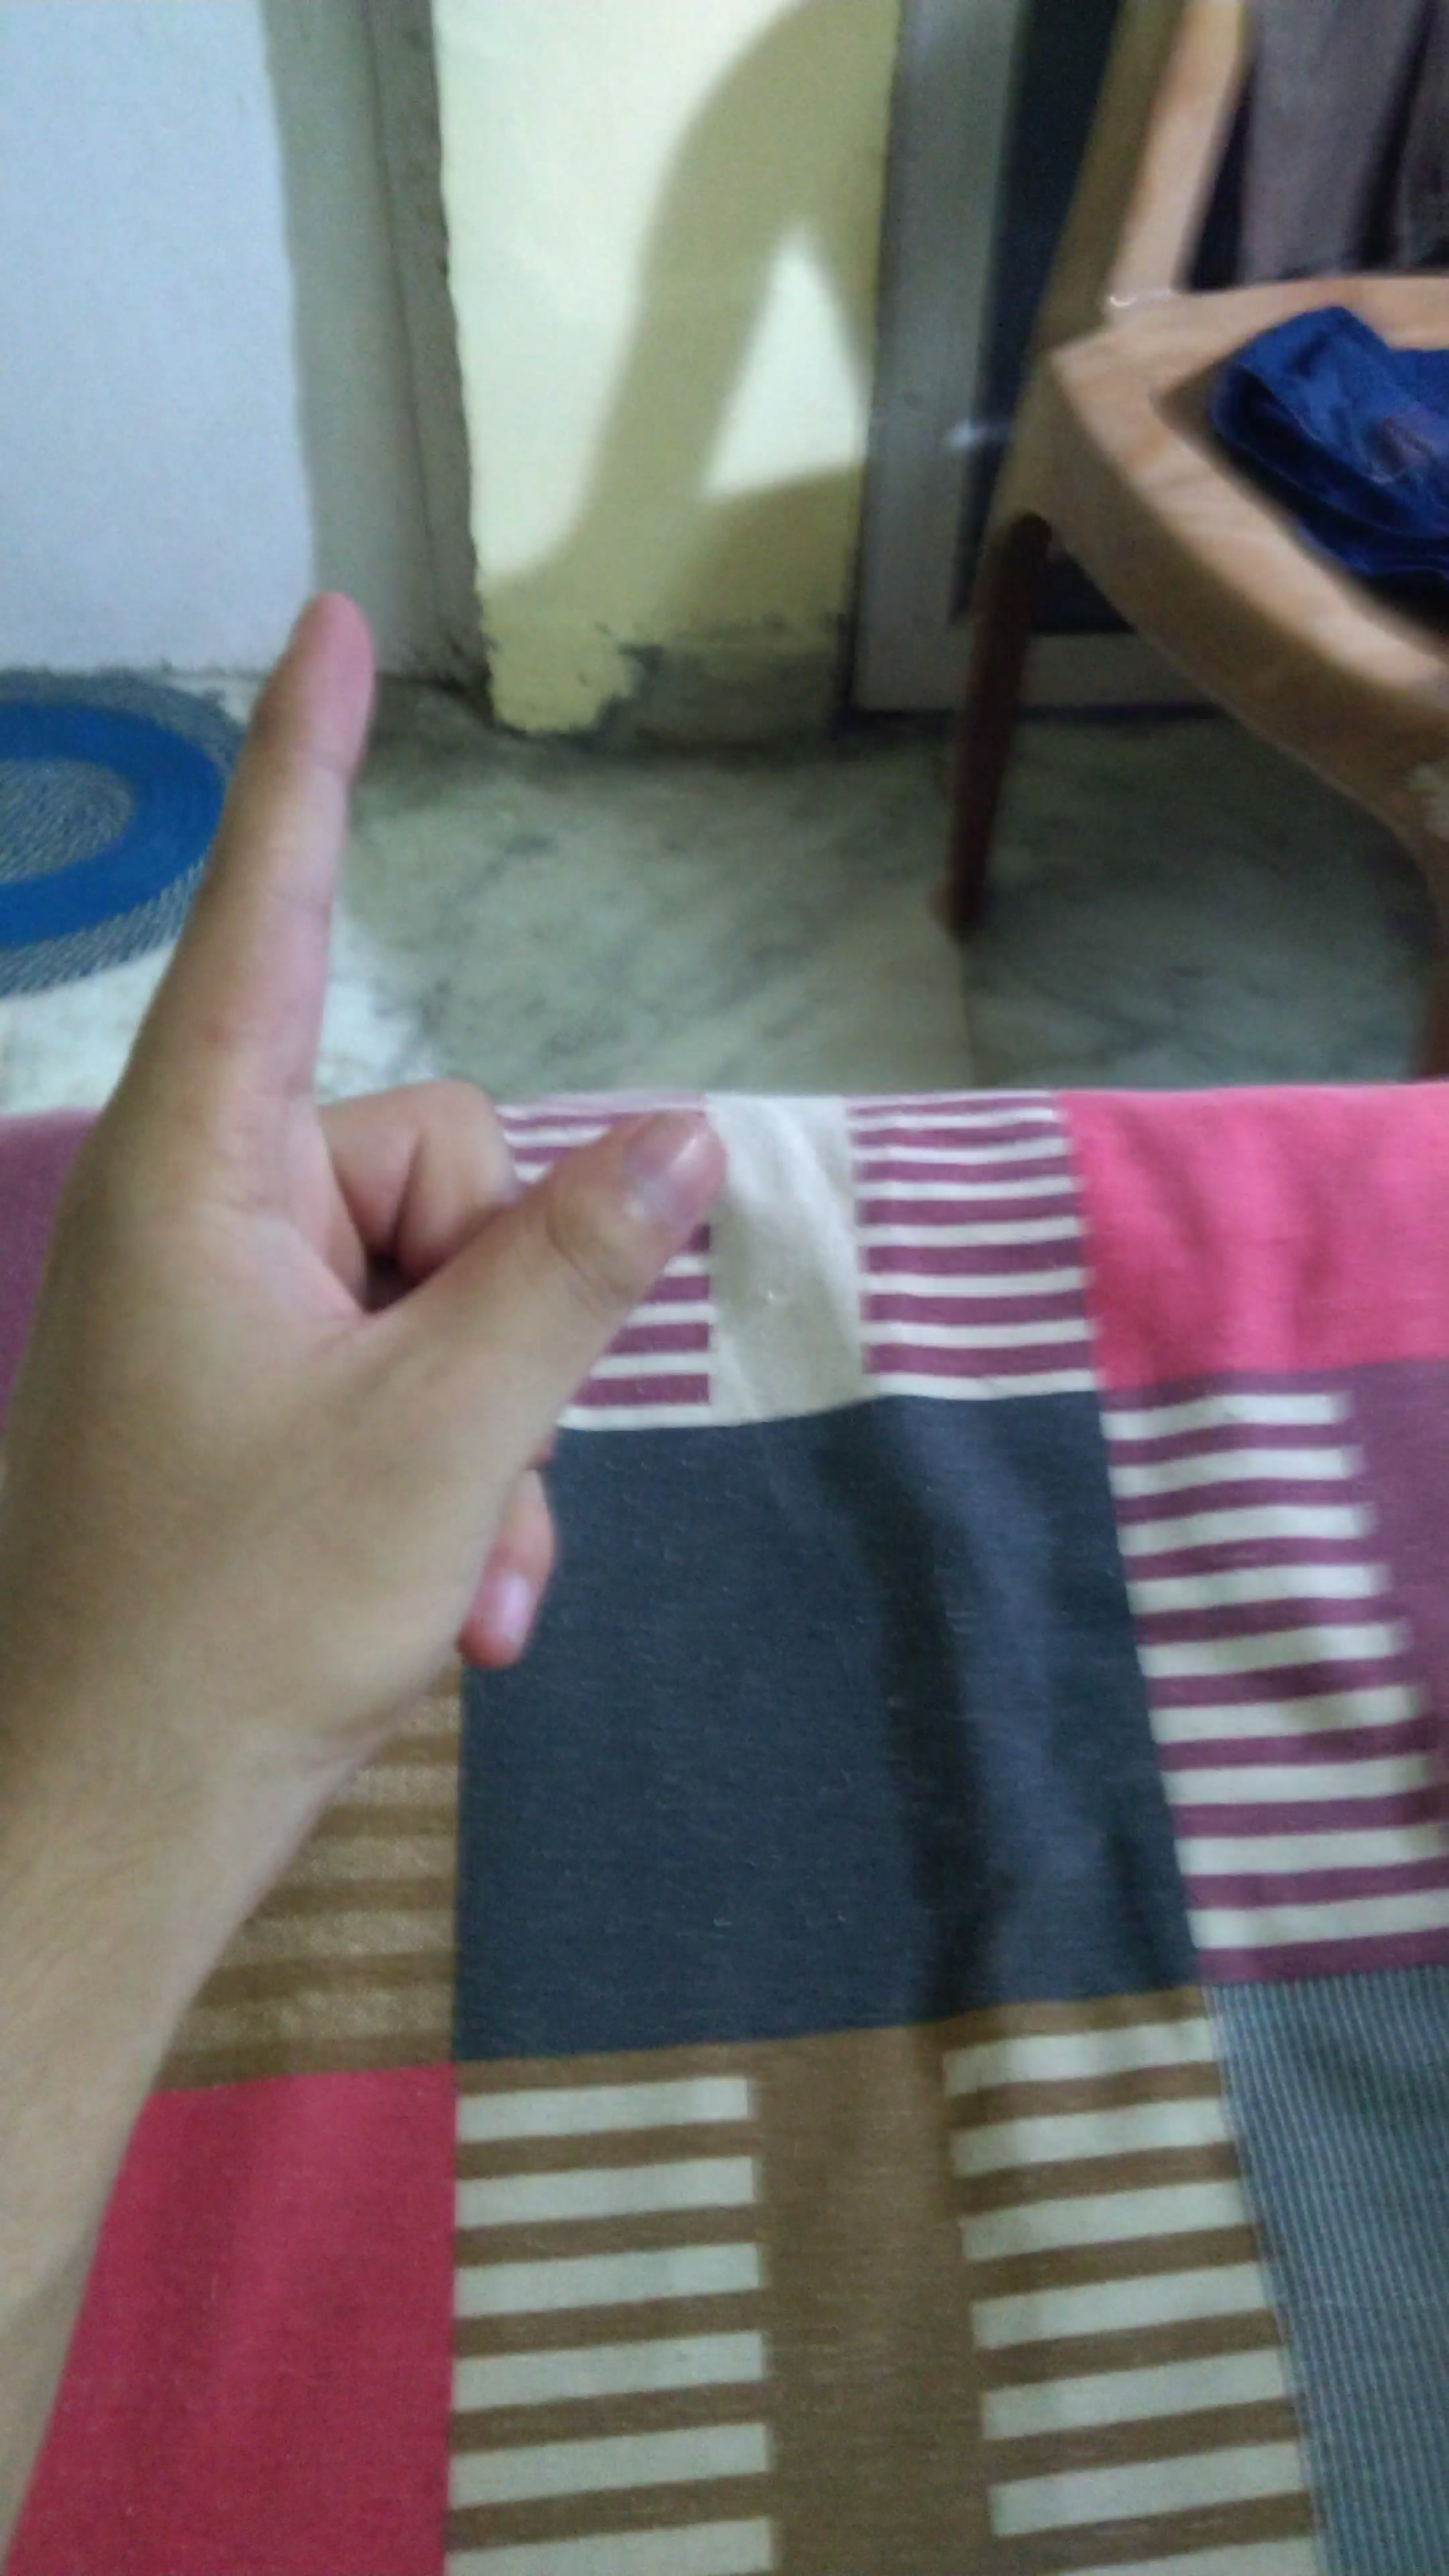hand: (30, 566, 754, 1824)
